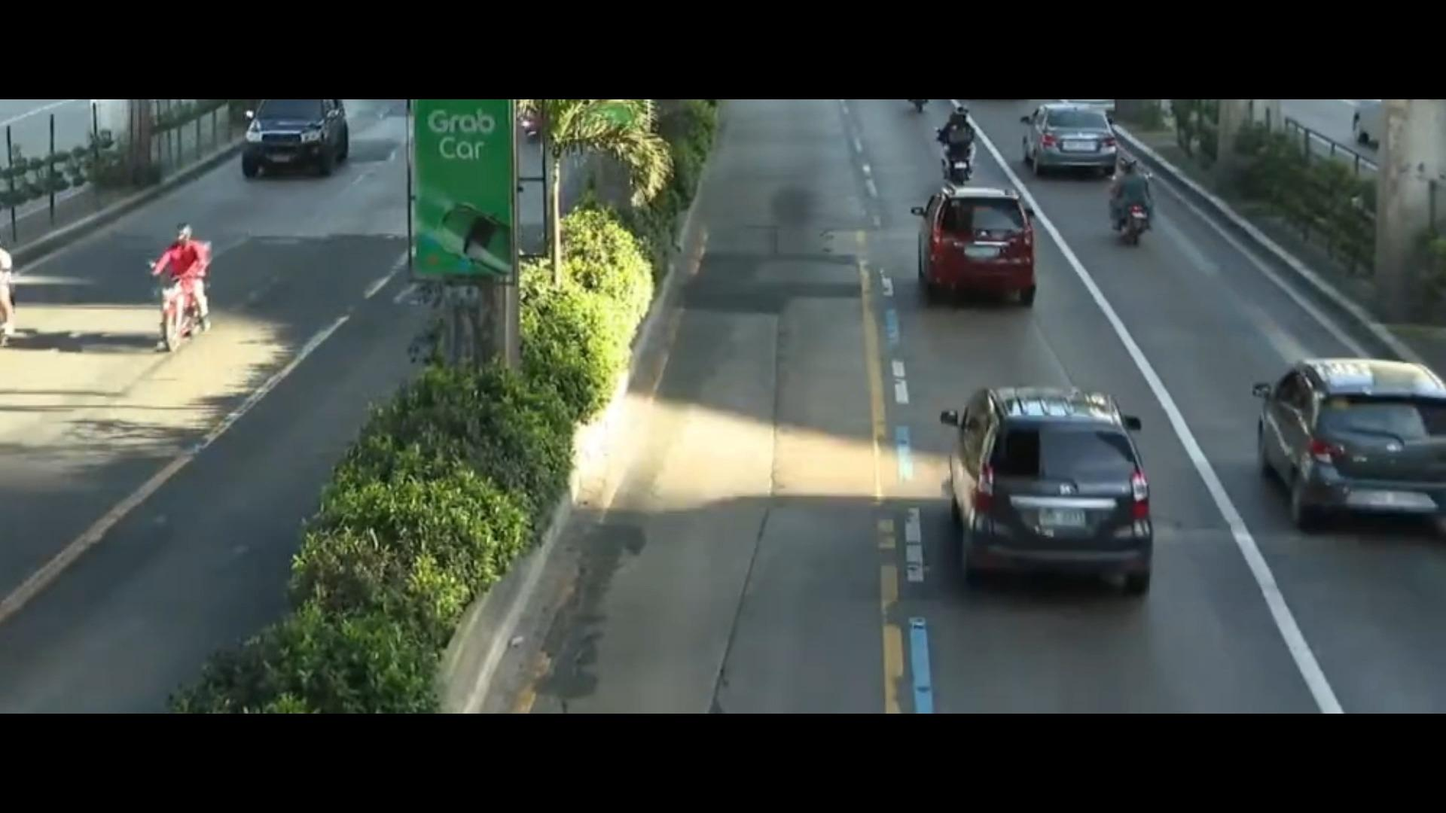Motorcycle: (143, 214, 231, 368), (903, 101, 992, 211), (1090, 151, 1163, 272)
SUV: (893, 369, 1190, 599), (1256, 327, 1446, 555), (883, 191, 1047, 326), (229, 105, 348, 186)
Sedan: (1015, 99, 1136, 179)
